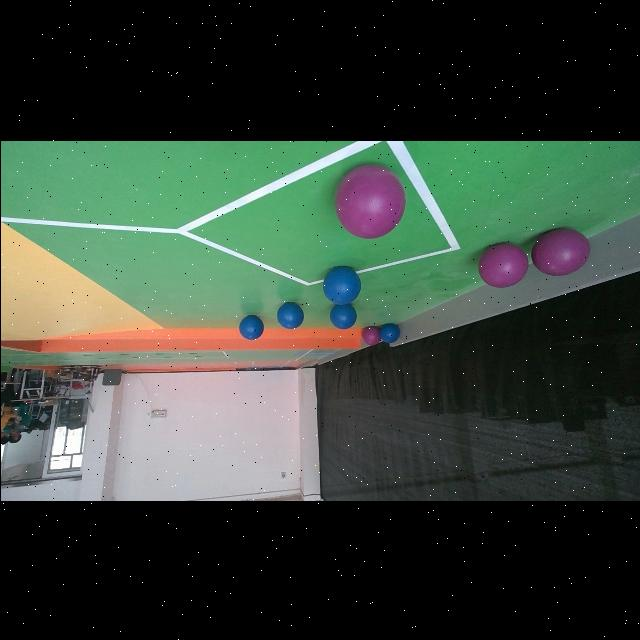B: (322, 266, 360, 304), (276, 300, 304, 328), (328, 302, 356, 328), (238, 314, 262, 338), (379, 322, 399, 342)
P: (335, 163, 405, 237), (530, 226, 590, 274), (478, 242, 528, 286), (361, 326, 379, 344)
